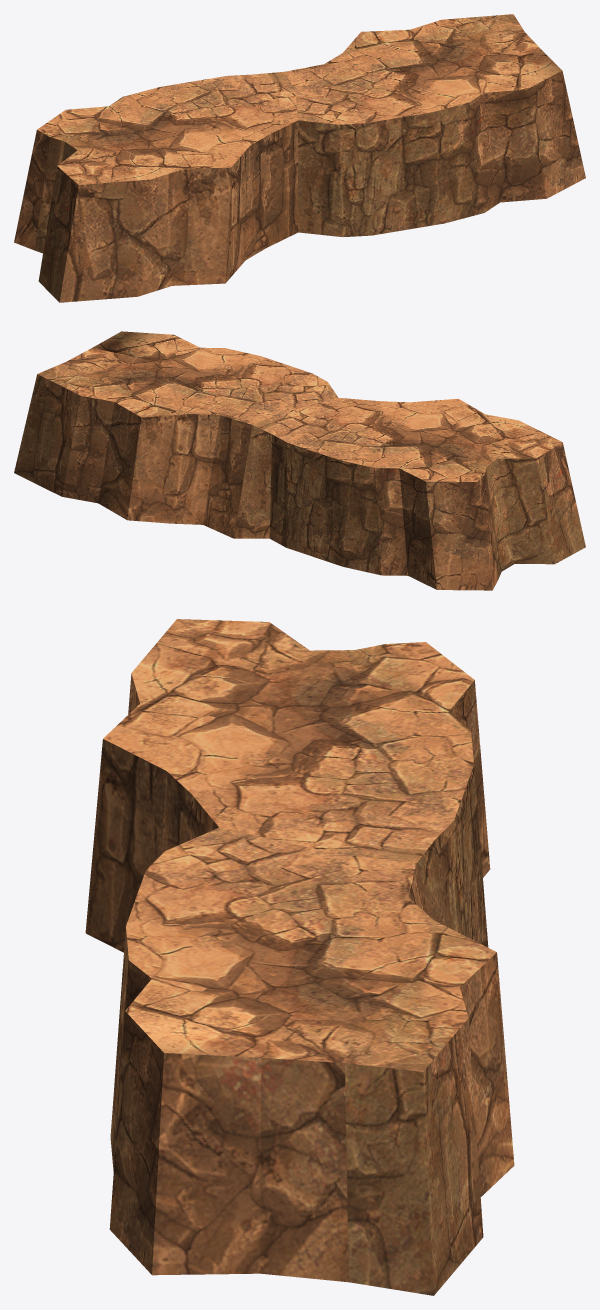
Rendered from StonePedestal.fbx.
3 views of the same model, one above another, from view 1: azimuth 30°, elevation 25°; view 2: azimuth 150°, elevation 25°; view 3: azimuth 270°, elevation 25° (orthographic). The views are drawn at different scales.
Visible parts, largest first — view 1: StonePedestal_geo; view 2: StonePedestal_geo; view 3: StonePedestal_geo.
Boxes of the visible parts, left/top/right/bottom form: StonePedestal_geo: left=14, top=14, right=585, bottom=302; StonePedestal_geo: left=14, top=331, right=585, bottom=590; StonePedestal_geo: left=85, top=619, right=514, bottom=1295.
Bounding box in the file's own units: 13.78 × 2.66 × 5.07.
